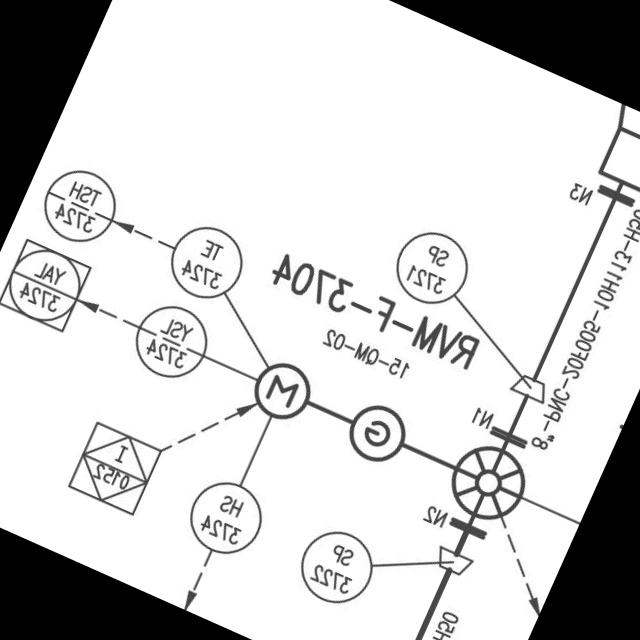RV1: (436, 432, 542, 536)
RVM: (243, 348, 419, 475)
SP: (426, 538, 479, 582), (505, 367, 553, 409)
